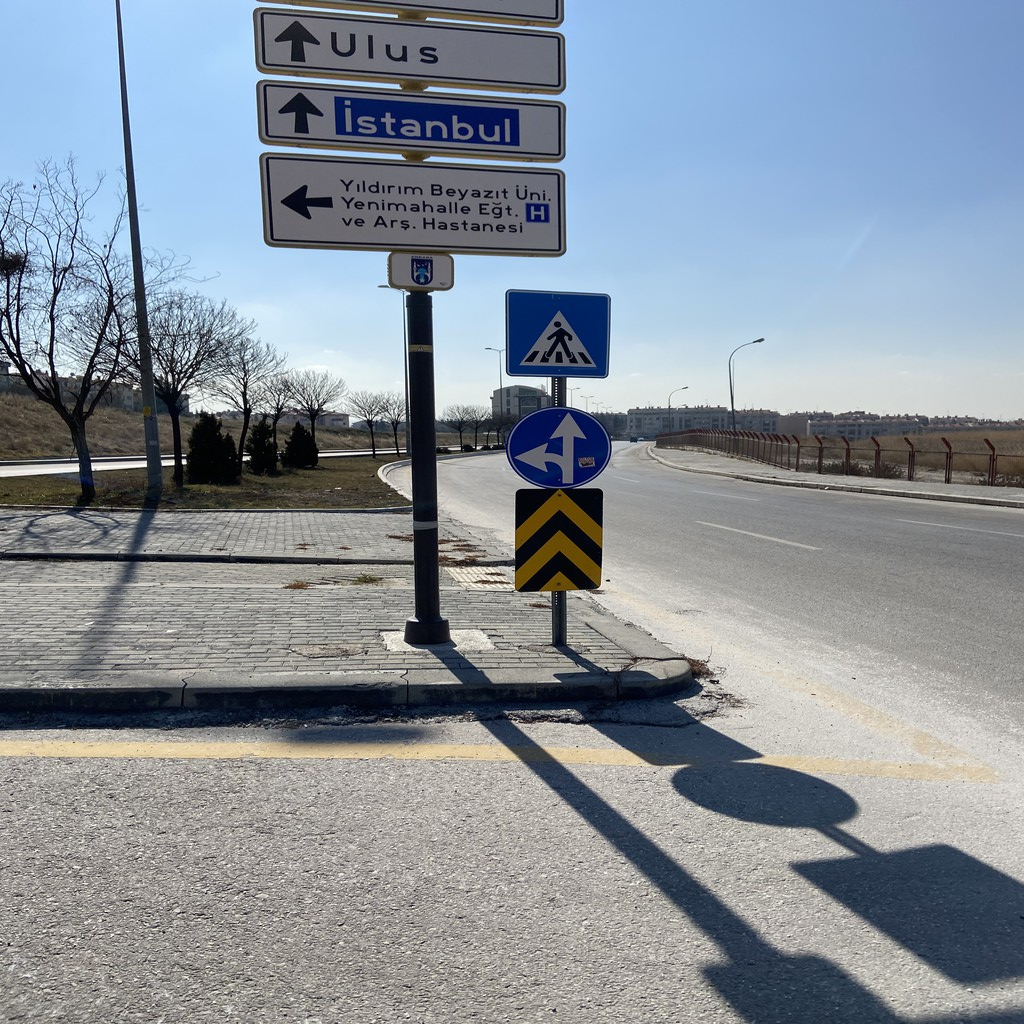Yaya Gecidi: (509, 296, 608, 377)
ileri ve Sola Mecburi Don: (509, 401, 610, 488)
